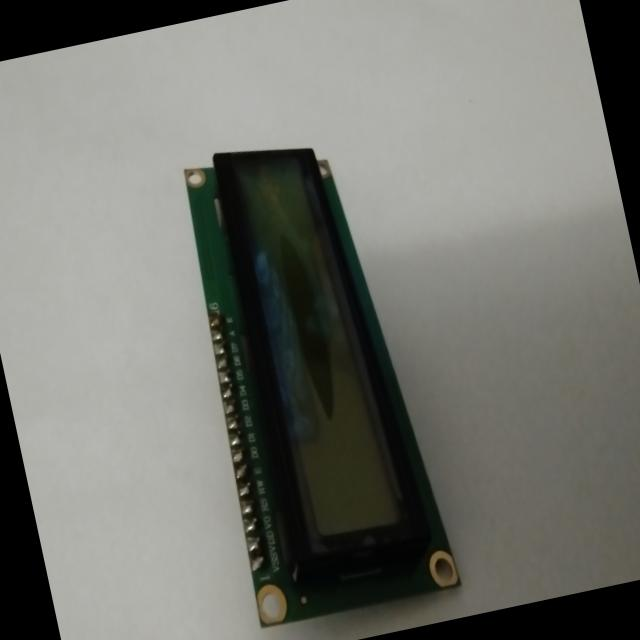lcd: (148, 96, 479, 640)
